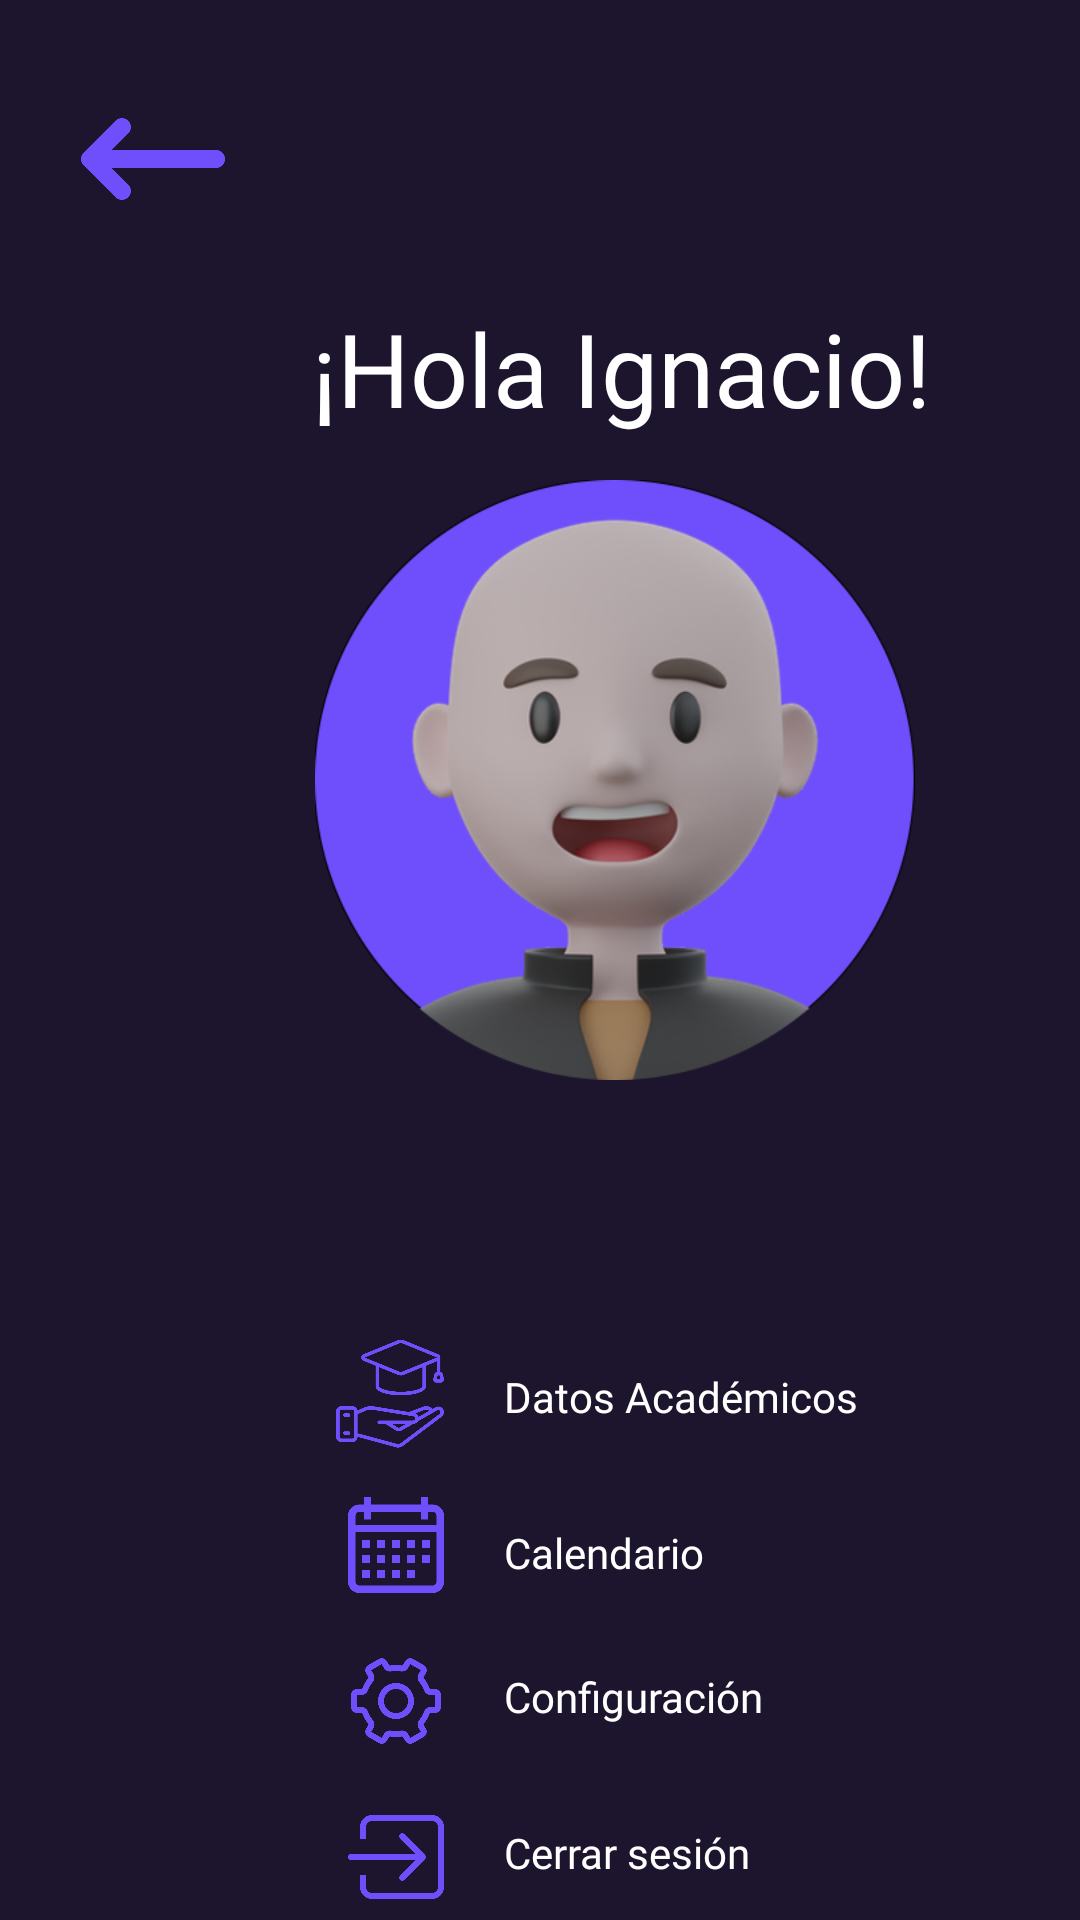

Locate icon controls on the screen. Image size 1080 × 1920, boxes as (x1, y1, x2, y2).
college hat hand: (336, 1340, 444, 1448)
configuracion: (351, 1658, 441, 1744)
left arrow: (81, 118, 225, 200)
